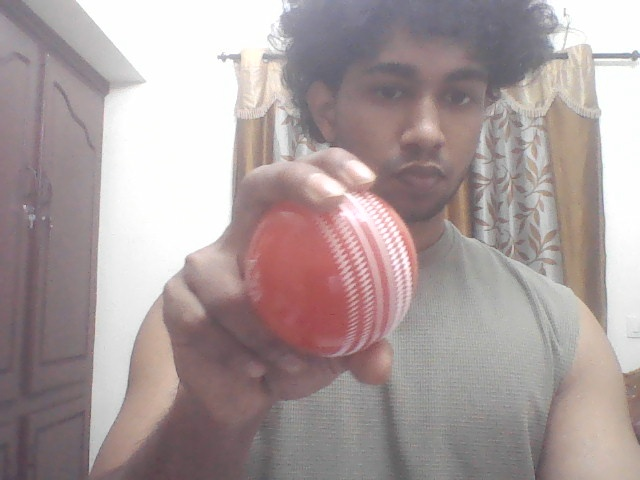cricket_ball: (240, 187, 425, 361)
